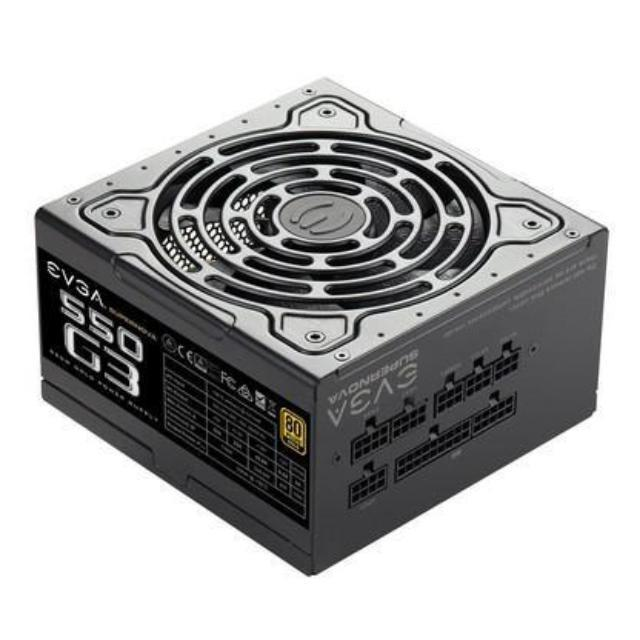PSU: (27, 58, 618, 592)
